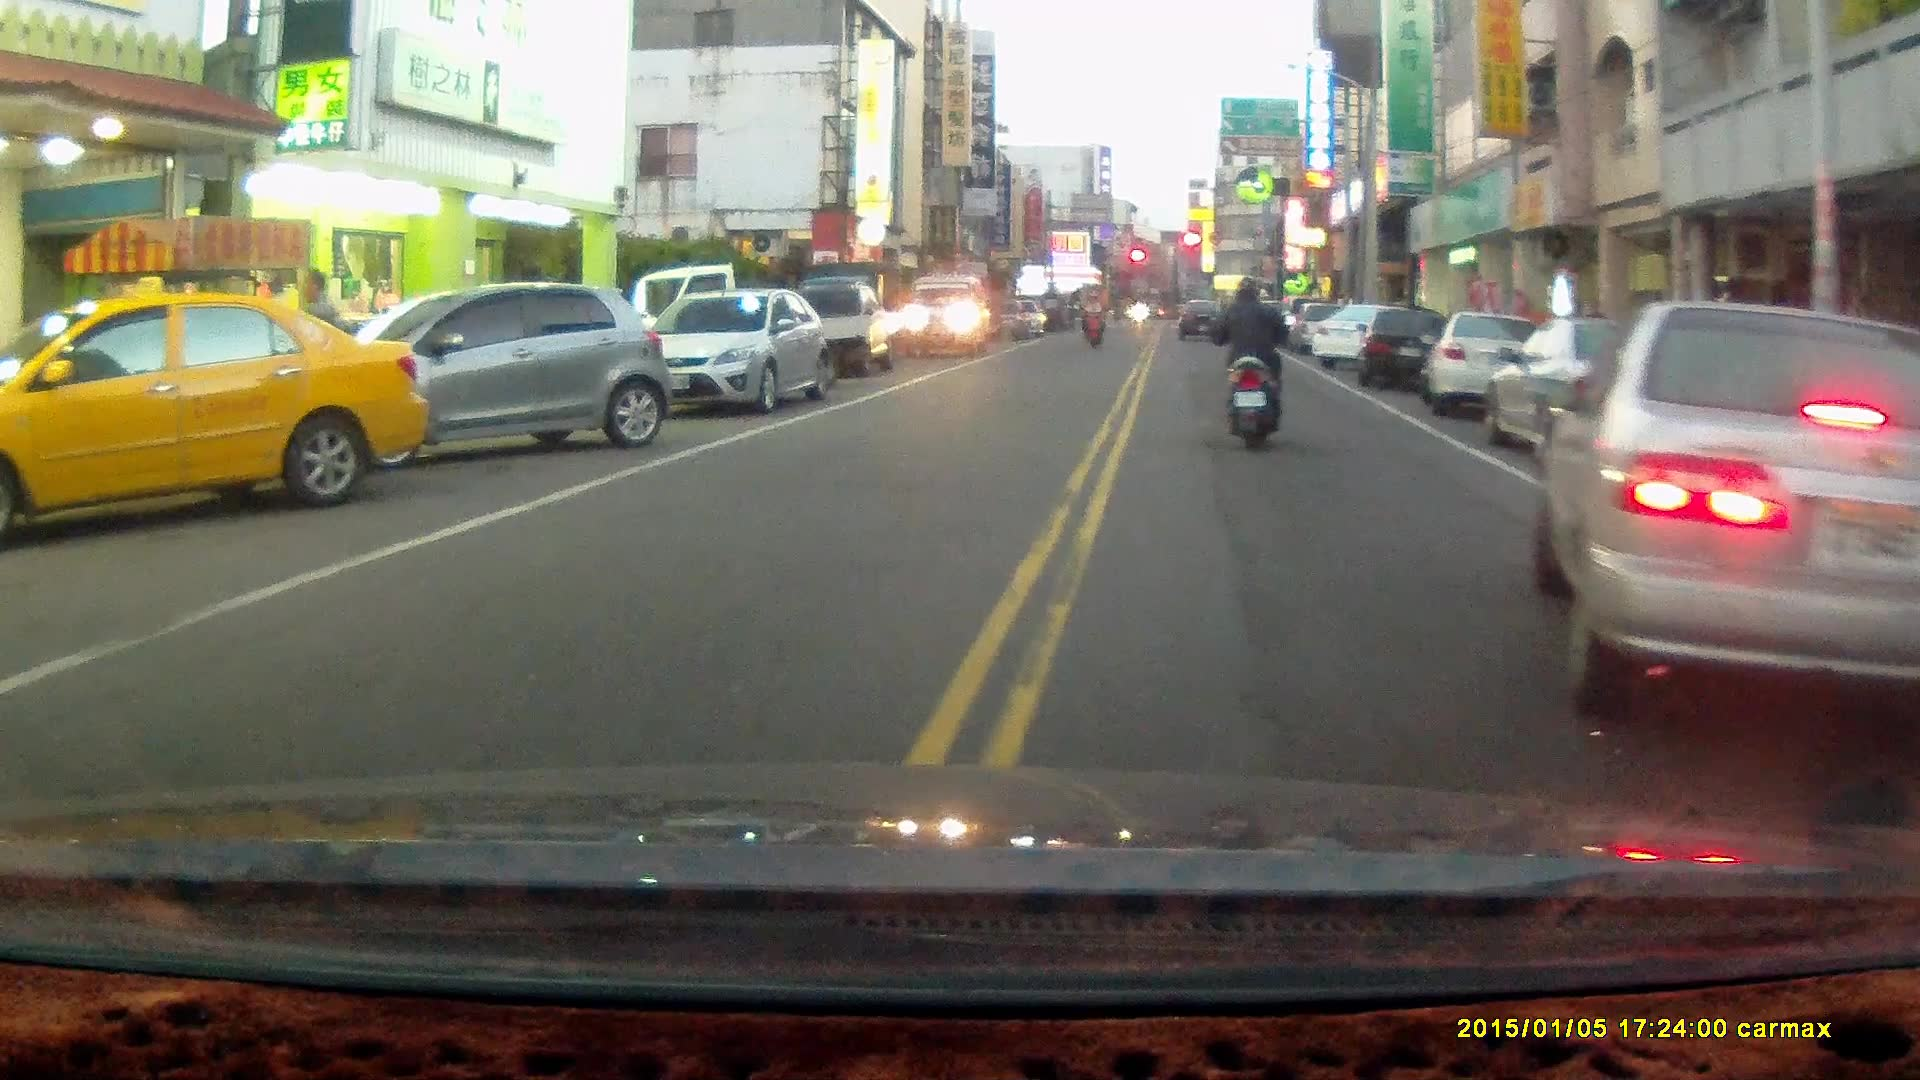rider: (1208, 275, 1296, 454), (1077, 287, 1105, 348)
vehicle: (1536, 297, 1920, 737), (1, 289, 422, 546), (310, 278, 669, 459), (1482, 317, 1717, 474), (621, 287, 830, 414), (772, 278, 899, 375), (1427, 309, 1536, 416), (895, 276, 983, 350)
